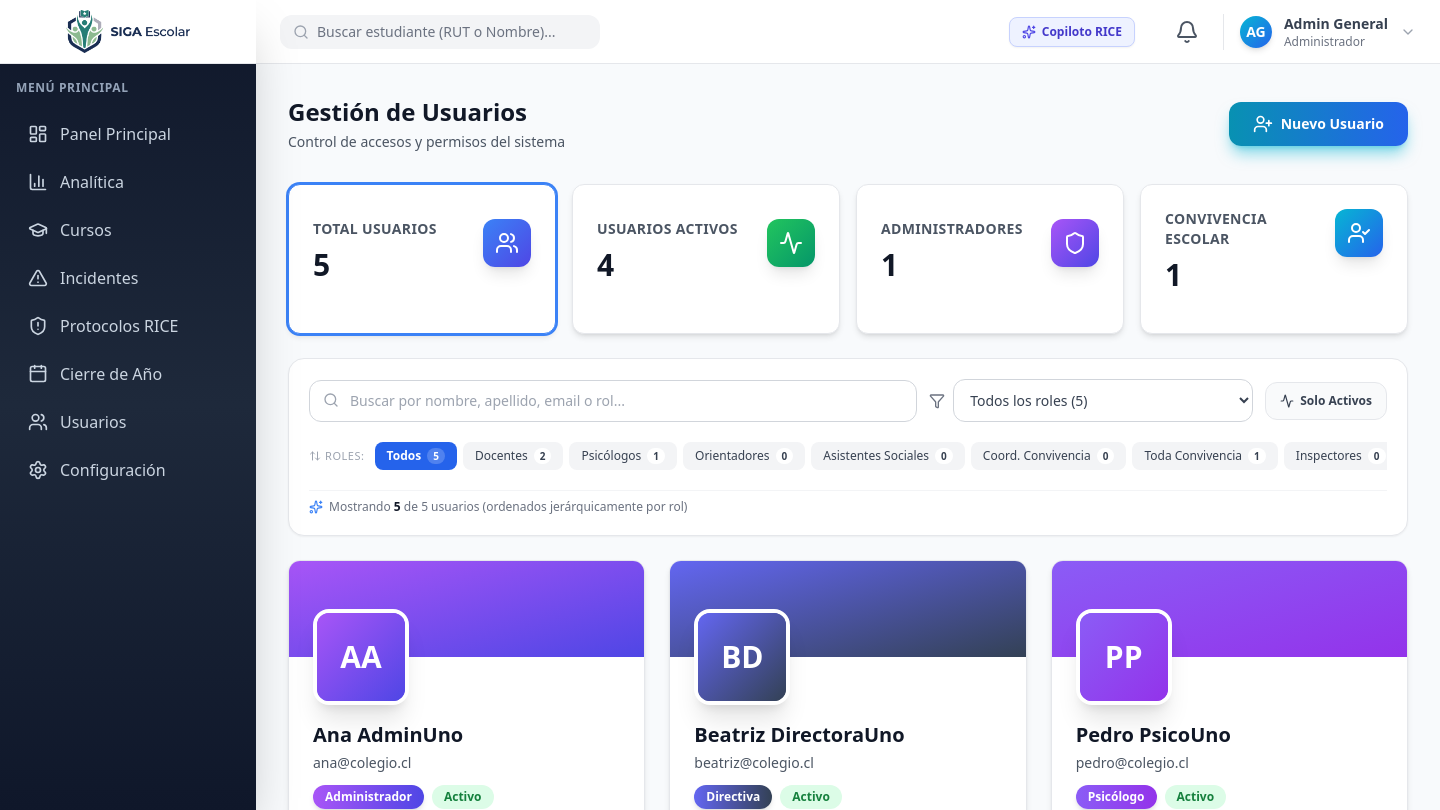
Scenario: UsuariosPage - Ordenamiento y Filtros › permite filtrar por rol haciendo clic en el chip correspondiente
Expected: the heading "Ana AdminUno" is shown, [313,721,463,748]
Hacemos clic en el chip de Psicólogos
Click the button "Psicólogos 1": (623, 456) [569,442,677,470]
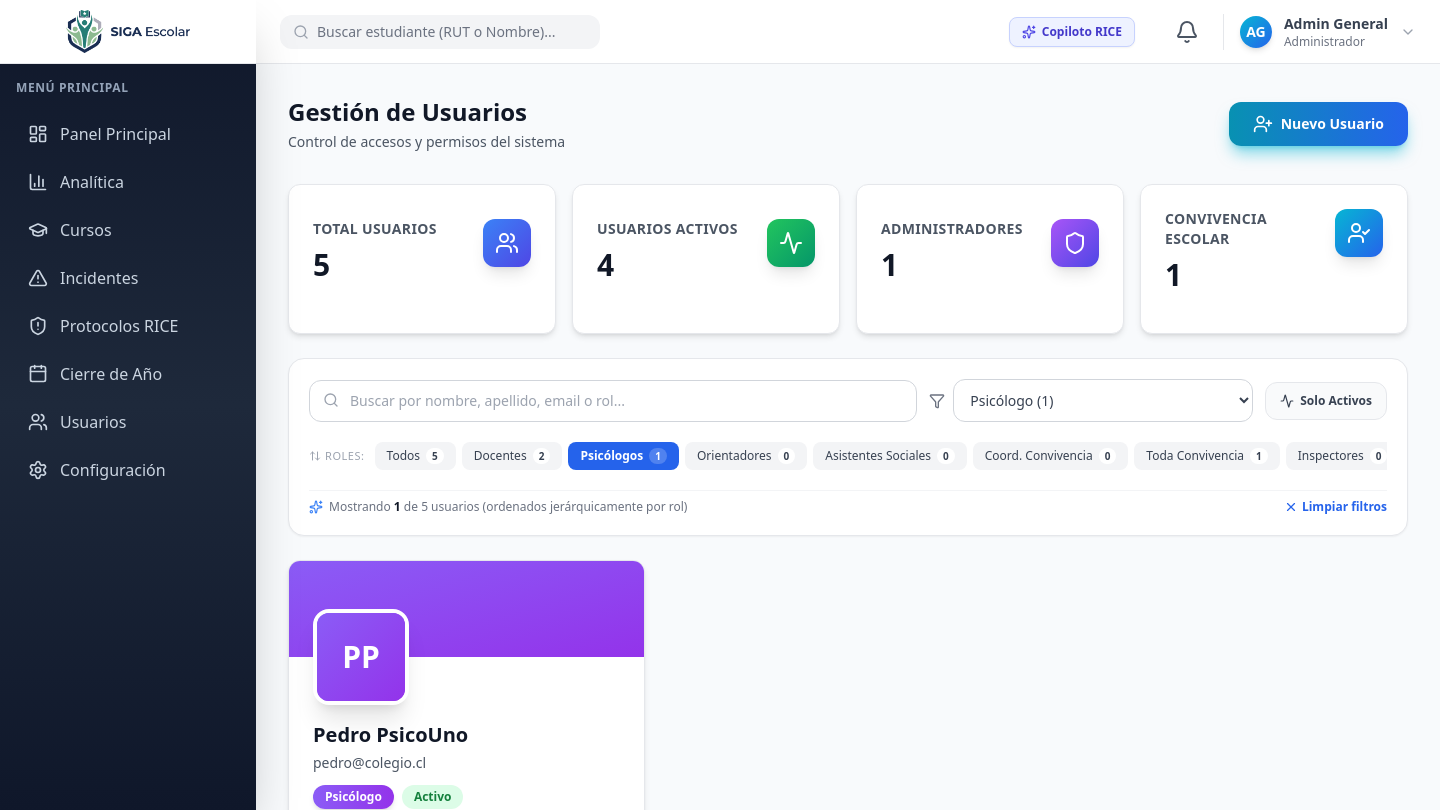
Expected: the heading "Pedro PsicoUno" is shown, [313,721,468,748]
Expected: the heading "Ana AdminUno" is gone
